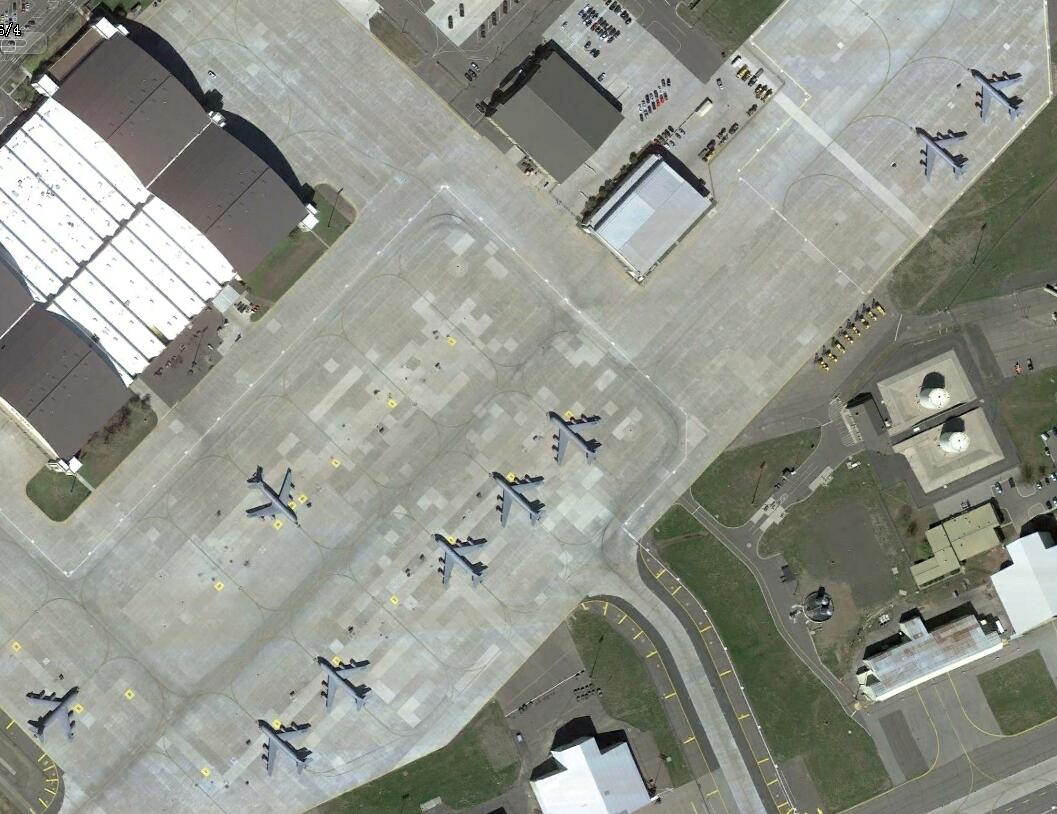A14: (314, 654, 378, 714), (245, 466, 304, 530), (490, 470, 551, 529), (545, 408, 607, 466), (256, 717, 314, 778), (914, 124, 970, 180), (971, 67, 1026, 122), (433, 533, 488, 588), (26, 687, 83, 740)
